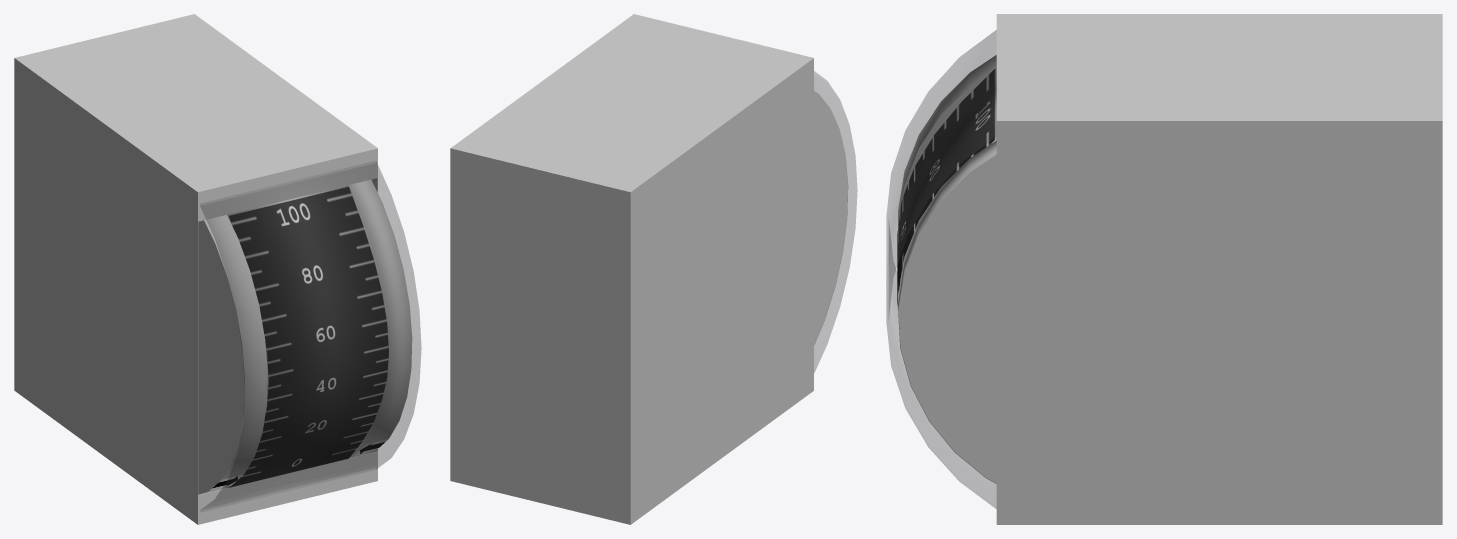
The model's file is c2gauge.fbx.
3 views of the same model, side by side, from view 1: azimuth 30°, elevation 25°; view 2: azimuth 150°, elevation 25°; view 3: azimuth 270°, elevation 25° (orthographic). The views are drawn at different scales.
Parts seen in each view (by area): view 1: C2Gauge, Left Rotor, Right Rotor; view 2: C2Gauge, Left Rotor; view 3: C2Gauge, Right Rotor, Left Rotor.
Part boxes in pixels (<box>): C2Gauge: <box>14,14,421,524</box>; Left Rotor: <box>198,215,267,494</box>; Right Rotor: <box>348,179,412,457</box>; C2Gauge: <box>450,14,857,524</box>; Left Rotor: <box>814,90,848,345</box>; C2Gauge: <box>886,14,1442,524</box>; Right Rotor: <box>898,140,996,483</box>; Left Rotor: <box>898,55,996,224</box>.
Size of the model in its own units: 374 by 660 by 824.
